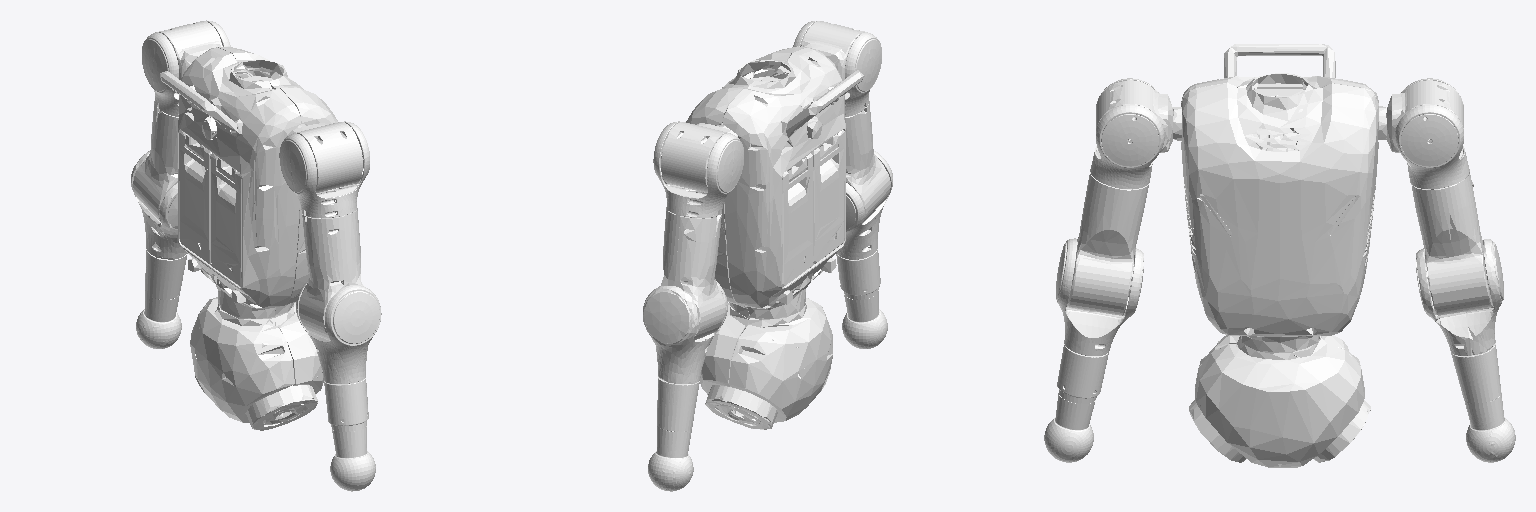
robot.urdf — biped_v3_arm:
<?xml version="1.0" ?>
<!-- =================================================================================== -->
<!-- |    This document was autogenerated by xacro from /home/fandes/workspace/kuavo-ros-control/src/humanoid-control/humanoid_interface_drake/models/biped_gen4.0/urdf/biped_v3_arm.xacro | -->
<!-- |    EDITING THIS FILE BY HAND IS NOT RECOMMENDED                                 | -->
<!-- =================================================================================== -->
<robot name="biped_v3_arm" xmlns:drake="https://drake.mit.edu">
  <link name="torso">
    <inertial>
      <origin xyz="-0.01005136 -0.00110498 0.14058574" rpy="0 0 0"/>
      <mass value="8.37744703"/>
      <inertia ixx="0.10436018" ixy="0.00037418" ixz="0.00220231"
               iyy="0.08324244" iyz="-0.00108080"
               izz="0.04927332"/>
    </inertial>
    <visual>
      <origin xyz="0 0 0" rpy="0 0 0" />
      <geometry>
        <mesh filename="../../meshes/torso.STL" />
      </geometry>
      <material name="">
        <color rgba="1 1 1 1" />
      </material>
    </visual>
  </link>
  <link name="waist">
    <inertial>
      <origin xyz="0.00202324 -0.00003822 -0.12282710" rpy="0 0 0"/>
      <mass value="5.27737344"/>
      <inertia ixx="0.02656560" ixy="0.00001678" ixz="-0.00000028"
               iyy="0.01821248" iyz="-0.00000269"
               izz="0.02080739"/>
    </inertial>
    <visual>
      <origin xyz="0 0 0" rpy="0 0 0" />
      <geometry>
        <mesh filename="../../meshes/waist.STL" />
      </geometry>
      <material name="">
        <color rgba="1 1 1 1" />
      </material>
    </visual>
  </link>
  <joint name="waist" type="fixed">
    <origin xyz="0 0 0" rpy="0 0 0" />
    <parent link="torso" />
    <child link="waist" />
    <axis xyz="0 0 1" />
    <limit lower="-2.61799387799149" upper="2.61799387799149" effort="80" velocity="12.0" />
    <dynamics damping="0.2" friction="0.0" />
  </joint>
  <!-- =========================================================== Arms ================================================================= -->
  <link name="zarm_l1_link">
    <inertial>
      <origin xyz="0.01773604 -0.00289047 -0.00006872" rpy="0 0 0"/>
      <mass value="0.84760000"/>
      <inertia
        ixx="0.00073101"
        ixy="-0.00004199"
        ixz="-0.00000127"
        iyy="0.00088866"
        iyz="-0.00000149"
        izz="0.00101122"/>
    </inertial>
    <visual>
      <origin xyz="0 0 0" rpy="0 0 0" />
      <geometry>
        <mesh filename="../../meshes/l_arm_pitch.STL" />
      </geometry>
      <material name="">
        <color rgba="1 1 1 1" />
      </material>
    </visual>
  </link>
  <joint name="zarm_l1_joint" type="revolute">
    <origin xyz="0 0.181 0.23843" rpy="0 0 0" />
    <parent link="torso" />
    <child link="zarm_l1_link" />
    <axis xyz="0 1 0" />
    <limit lower="-3.14159265358979" upper="2.0943951023932" effort="14.1" velocity="10.5" />
    <dynamics damping="0.2" friction="0.0" />
  </joint>
  <transmission type="SimpleTransmission">
    <joint name="zarm_l1_joint" />
    <actuator name="zarm_l1_joint_motor" />
  </transmission>
  <link name="zarm_l2_link">
    <inertial>
      <origin xyz="0.00199256 0.00000000 -0.03214647" rpy="0 0 0"/>
      <mass value="0.36680000"/>
      <inertia
        ixx="0.00053752"
        ixy="0.00000001"
        ixz="-0.00002375"
        iyy="0.00078576"
        iyz="0.00000000"
        izz="0.00057618"/>
    </inertial>
    <visual>
      <origin xyz="0 0 0" rpy="0 0 0" />
      <geometry>
        <mesh filename="../../meshes/l_arm_roll.STL" />
      </geometry>
      <material name="">
        <color rgba="1 1 1 1" />
      </material>
    </visual>
  </link>
  <joint name="zarm_l2_joint" type="revolute">
    <origin xyz="0 0 0" rpy="0.17453 0 0" />
    <parent link="zarm_l1_link" />
    <child link="zarm_l2_link" />
    <axis xyz="1 0 0" />
    <limit lower="-0.52" upper="3.316" effort="37" velocity="15.0" />
    <dynamics damping="0.2" friction="0.0" />
  </joint>
  <transmission type="SimpleTransmission">
    <joint name="zarm_l2_joint" />
    <actuator name="zarm_l2_joint_motor" />
  </transmission>
  <link name="zarm_l3_link">
    <inertial>
      <origin xyz="-0.00007730 -0.00993640 -0.15083251" rpy="0 0 0" />
      <mass value="1.51660000"/>
      <inertia
        ixx="0.00716993"
        ixy="0.00000142"
        ixz="0.00000316"
        iyy="0.00677305"
        iyz="-0.00085824"
        izz="0.00141913"/>
    </inertial>
    <visual>
      <origin xyz="0 0 0" rpy="0 0 0" />
      <geometry>
        <mesh filename="../../meshes/l_arm_yaw.STL" />
      </geometry>
      <material name="">
        <color rgba="1 1 1 1" />
      </material>
    </visual>
  </link>
  <joint name="zarm_l3_joint" type="revolute">
    <origin xyz="0 0 0" rpy="0 0 0" />
    <parent link="zarm_l2_link" />
    <child link="zarm_l3_link" />
    <axis xyz="0 0 1" />
    <limit lower="-1.5707963267949" upper="1.5707963267949" effort="37" velocity="15.0" />
    <dynamics damping="0.2" friction="0.0" />
  </joint>
  <transmission type="SimpleTransmission">
    <joint name="zarm_l3_joint" />
    <actuator name="zarm_l3_joint_motor" />
  </transmission>
  <link name="zarm_l4_link">
    <inertial>
      <origin xyz="-0.00104921 -0.00289774 -0.05095618" rpy="0 0 0"/>
      <mass value="0.34500000"/>
      <inertia
        ixx="0.00124963"
        ixy="0.00000224"
        ixz="0.00000372"
        iyy="0.00103949"
        iyz="0.00004727"
        izz="0.00047814"/>
    </inertial>
    <visual>
      <origin xyz="0 0 0" rpy="0 0 0" />
      <geometry>
        <mesh filename="../../meshes/l_forearm.STL" />
      </geometry>
      <material name="">
        <color rgba="1 1 1 1" />
      </material>
    </visual>
  </link>
  <joint name="zarm_l4_joint" type="revolute">
    <origin xyz="0 0 -0.2085" rpy="0 0 0" />
    <parent link="zarm_l3_link" />
    <child link="zarm_l4_link" />
    <axis xyz="0 1 0" />
    <limit lower="-2.26892802759263" upper="0.08726" effort="37" velocity="15.0" />
    <dynamics damping="0.2" friction="0.0" />
  </joint>
  <transmission type="SimpleTransmission">
    <joint name="zarm_l4_joint" />
    <actuator name="zarm_l4_joint_motor" />
  </transmission>
  <link name="l_handball">
    <inertial>
      <!-- Y坐标取反（但原始值为0，所以不变） -->
      <origin xyz="0 0 -0.08819581" rpy="0 0 0"/>
      <mass value="0.17660000"/>
      <inertia
        ixx="0.00046676"
        ixy="0.00000000"
        ixz="0.00000000"
        iyy="0.00046683"
        iyz="0.00000000"
        izz="0.00008009"/>
    </inertial>
    <visual>
      <origin xyz="0 0 0" rpy="0 0 0"/>
      <geometry>
        <mesh filename="../../meshes/l_handball.STL"/>
      </geometry>
      <material name="">
        <color rgba="1 1 1 1" />
      </material>
    </visual>
  </link>

  <!-- Joint connecting zarm_l4_link to l_handball -->
  <joint name="l_handball_joint" type="fixed">
    <origin xyz="0 0 -0.085236" rpy="0 0 0"/>
    <parent link="zarm_l4_link"/>
    <child link="l_handball"/>
  </joint>
  <link name="zarm_l7_end_effector">
    <collision>
      <origin rpy="0 0 0" xyz="0 0 0" />
      <geometry>
        <sphere radius="0.005" />
      </geometry>
    </collision>
  </link>
  <joint name="zarm_l7_end_effector_joint" type="fixed">
    <origin xyz="0 0.0 -0.2175" rpy="0 0 0" />
    <parent link="zarm_l4_link" />
    <child link="zarm_l7_end_effector" />
  </joint>
  <link name="zarm_r1_link">
    <inertial>
      <origin xyz="0.01773604 0.00289047 -0.00006872" rpy="0 0 0"/>
      <mass value="0.84760000"/>
      <inertia
        ixx="0.00073101"
        ixy="0.00004199"
        ixz="-0.00000127"
        iyy="0.00088866"
        iyz="0.00000149"
        izz="0.00101122"/>
    </inertial>
    <visual>
      <origin xyz="0 0 0" rpy="0 0 0" />
      <geometry>
        <mesh filename="../../meshes/r_arm_pitch.STL" />
      </geometry>
      <material name="">
        <color rgba="1 1 1 1" />
      </material>
    </visual>
  </link>
  <joint name="zarm_r1_joint" type="revolute">
    <origin xyz="0 -0.181 0.23843" rpy="0 0 0" />
    <parent link="torso" />
    <child link="zarm_r1_link" />
    <axis xyz="0 1 0" />
    <limit lower="-3.14159265358979" upper="2.0943951023932" effort="14.1" velocity="10.5" />
    <dynamics damping="0.2" friction="0.0" />
  </joint>
  <transmission type="SimpleTransmission">
    <joint name="zarm_r1_joint" />
    <actuator name="zarm_r1_joint_motor" />
  </transmission>
  <link name="zarm_r2_link">
    <inertial>
      <origin xyz="0.00199256 0.00000000 -0.03214647" rpy="0 0 0"/>
      <mass value="0.36680000"/>
      <inertia
        ixx="0.00053752"
        ixy="-0.00000001"
        ixz="-0.00002375"
        iyy="0.00078576"
        iyz="0.00000000"
        izz="0.00057618"/>
    </inertial>
    <visual>
      <origin xyz="0 0 0" rpy="0 0 0" />
      <geometry>
        <mesh filename="../../meshes/r_arm_roll.STL" />
      </geometry>
      <material name="">
        <color rgba="1 1 1 1" />
      </material>
    </visual>
  </link>
  <joint name="zarm_r2_joint" type="revolute">
    <origin xyz="0 0 0" rpy="-0.17453 0 0" />
    <parent link="zarm_r1_link" />
    <child link="zarm_r2_link" />
    <axis xyz="1 0 0" />
    <limit lower="-3.3161" upper="0.52" effort="37.0" velocity="15.0" />
    <dynamics damping="0.2" friction="0.0" />
  </joint>
  <transmission type="SimpleTransmission">
    <joint name="zarm_r2_joint" />
    <actuator name="zarm_r2_joint_motor" />
  </transmission>
  <link name="zarm_r3_link">
    <inertial>
      <origin xyz="-0.00007730 0.00993640 -0.15083251" rpy="0 0 0"/>
      <mass value="1.51660000"/>
      <inertia
        ixx="0.00716993"
        ixy="-0.00000142"
        ixz="0.00000316"
        iyy="0.00677305"
        iyz="0.00085824"
        izz="0.00141913"/>
    </inertial>
    <visual>
      <origin xyz="0 0 0" rpy="0 0 0" />
      <geometry>
        <mesh filename="../../meshes/r_arm_yaw.STL" />
      </geometry>
      <material name="">
        <color rgba="1 1 1 1" />
      </material>
    </visual>
  </link>
  <joint name="zarm_r3_joint" type="revolute">
    <origin xyz="0 0 0" rpy="0 0 0" />
    <parent link="zarm_r2_link" />
    <child link="zarm_r3_link" />
    <axis xyz="0 0 1" />
    <limit lower="-1.5707963267949" upper="1.5707963267949" effort="37.0" velocity="15.0" />
    <dynamics damping="0.2" friction="0.0" />
  </joint>
  <transmission type="SimpleTransmission">
    <joint name="zarm_r3_joint" />
    <actuator name="zarm_r3_joint_motor" />
  </transmission>
  <link name="zarm_r4_link">
    <inertial>
      <origin xyz="-0.00104921 0.00289774 -0.05095618" rpy="0 0 0"/>
      <mass value="0.34500000"/>
      <inertia
        ixx="0.00124963"
        ixy="-0.00000224"
        ixz="0.00000372"
        iyy="0.00103949"
        iyz="-0.00004727"
        izz="0.00047814"/>
    </inertial>
    <visual>
      <origin xyz="0 0 0" rpy="0 0 0" />
      <geometry>
        <mesh filename="../../meshes/r_forearm.STL" />
      </geometry>
      <material name="">
        <color rgba="1 1 1 1" />
      </material>
    </visual>
  </link>
  <joint name="zarm_r4_joint" type="revolute">
    <origin xyz="0 0 -0.2085" rpy="0 0 0"/>
    <parent link="zarm_r3_link" />
    <child link="zarm_r4_link" />
    <axis xyz="0 1 0" />
    <limit lower="-2.26892802759263" upper="0.08726" effort="37.0" velocity="15.0" />
    <dynamics damping="0.2" friction="0.0" />
  </joint>
  <transmission type="SimpleTransmission">
    <joint name="zarm_r4_joint" />
    <actuator name="zarm_r4_joint_motor" />
  </transmission>
  <!-- r_handball link with updated inertial properties -->
  <link name="r_handball">
    <inertial>
      <origin xyz="0 0 -0.08819581" rpy="0 0 0"/>
      <mass value="0.17660000"/>
      <inertia
        ixx="0.00046676"
        ixy="0.00000000"
        ixz="0.00000000"
        iyy="0.00046683"
        iyz="0.00000000"
        izz="0.00008009"/>
    </inertial>
    <visual>
      <origin xyz="0 0 0" rpy="0 0 0"/>
      <geometry>
        <mesh filename="../../meshes/r_handball.STL"/>
      </geometry>
      <material name="">
        <color rgba="1 1 1 1" />
      </material>
    </visual>
  </link>

  <!-- Joint connecting r_forearm to r_handball -->
  <joint name="r_handball_joint" type="fixed">
    <origin xyz="0 0 -0.085236" rpy="0 0 0"/>
    <parent link="zarm_r4_link"/>
    <child link="r_handball"/>
  </joint>
  <link name="zarm_r7_end_effector">
    <collision>
      <origin rpy="0 0 0" xyz="0 0 0" />
      <geometry>
        <sphere radius="0.005" />
      </geometry>
    </collision>
  </link>
  <joint name="zarm_r7_end_effector_joint" type="fixed">
    <origin xyz="0 0.0 -0.2175" rpy="0 0 0" />
    <parent link="zarm_r4_link" />
    <child link="zarm_r7_end_effector" />
  </joint>
  <!-- end frame -->
  <!-- <frame link="l_hand_pitch" name="l_hand_sole" xyz="0 0 -0.1" /> -->
  <!-- end frame -->
  <!-- <frame link="r_hand_pitch" name="r_hand_sole" xyz="0 0 -0.1" /> -->
</robot>

--- Facts derived from the render (not from the file) ---
3 views of the same robot in one strip: view 1: azimuth 30°, elevation 25°; view 2: azimuth 150°, elevation 25°; view 3: azimuth 270°, elevation 25° (orthographic).
Model biped_v3_arm with 14 links and 13 joints (8 revolute, 5 fixed), rooted at torso, posed all joints at 0.
Visible links, largest first — view 1: torso, waist, zarm_r4_link, zarm_r3_link, zarm_r2_link, zarm_l4_link, zarm_r1_link, zarm_l3_link, r_handball, zarm_l2_link, l_handball, zarm_l1_link; view 2: torso, waist, zarm_l4_link, zarm_l3_link, zarm_l2_link, zarm_r4_link, zarm_l1_link, zarm_r3_link, l_handball, zarm_r2_link, r_handball, zarm_r1_link; view 3: torso, waist, zarm_r3_link, zarm_l3_link, zarm_r4_link, zarm_l4_link, zarm_l2_link, zarm_r2_link, l_handball, r_handball, zarm_l1_link, zarm_r1_link.
Link boxes in pixels (bbox=[...]): torso: bbox=[160, 47, 337, 318]; waist: bbox=[190, 297, 323, 430]; zarm_r4_link: bbox=[296, 281, 381, 425]; zarm_r3_link: bbox=[299, 208, 364, 340]; zarm_r2_link: bbox=[279, 121, 369, 217]; zarm_l4_link: bbox=[131, 151, 187, 348]; zarm_r1_link: bbox=[288, 122, 362, 192]; zarm_l3_link: bbox=[133, 101, 178, 221]; r_handball: bbox=[324, 378, 375, 491]; zarm_l2_link: bbox=[142, 20, 230, 116]; l_handball: bbox=[136, 251, 186, 348]; zarm_l1_link: bbox=[159, 21, 222, 93]; torso: bbox=[686, 46, 864, 318]; waist: bbox=[700, 298, 832, 429]; zarm_l4_link: bbox=[643, 281, 727, 489]; zarm_l3_link: bbox=[658, 208, 725, 340]; zarm_l2_link: bbox=[653, 121, 743, 217]; zarm_r4_link: bbox=[836, 151, 892, 295]; zarm_l1_link: bbox=[661, 122, 735, 192]; zarm_r3_link: bbox=[845, 101, 890, 221]; l_handball: bbox=[648, 377, 699, 491]; zarm_r2_link: bbox=[793, 21, 881, 116]; r_handball: bbox=[837, 249, 887, 348]; zarm_r1_link: bbox=[801, 21, 864, 93]; torso: bbox=[1173, 44, 1386, 351]; waist: bbox=[1189, 335, 1370, 467]; zarm_r3_link: bbox=[1067, 172, 1148, 315]; zarm_l3_link: bbox=[1411, 172, 1492, 315]; zarm_r4_link: bbox=[1056, 238, 1143, 398]; zarm_l4_link: bbox=[1416, 239, 1514, 461]; zarm_l2_link: bbox=[1395, 78, 1469, 188]; zarm_r2_link: bbox=[1090, 78, 1164, 188]; l_handball: bbox=[1452, 343, 1515, 462]; r_handball: bbox=[1044, 346, 1107, 462]; zarm_l1_link: bbox=[1386, 80, 1463, 152]; zarm_r1_link: bbox=[1096, 80, 1173, 152].
Bounding box of the posed robot: 0.2075 × 0.5695 × 0.5061 m (x, y, z).
12 mesh visuals loaded from 12 distinct referenced files (12 binary STL).
